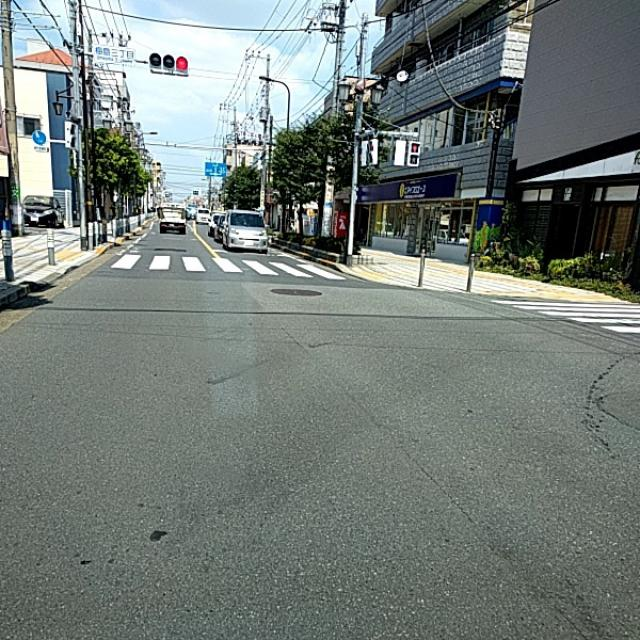pothole: (130, 529, 229, 577)
